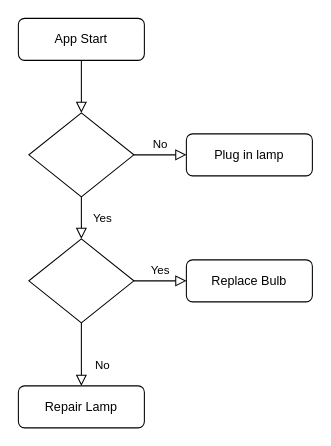
This 331x446 diagram has some shape labels left out. The shapes that lost their labels are listed below. From the top down, each one's centre as x and y in pixels, then its label:
At (x=81, y=154): "Lamp plugged in?".
At (x=81, y=280): "Bulb burned out?".
